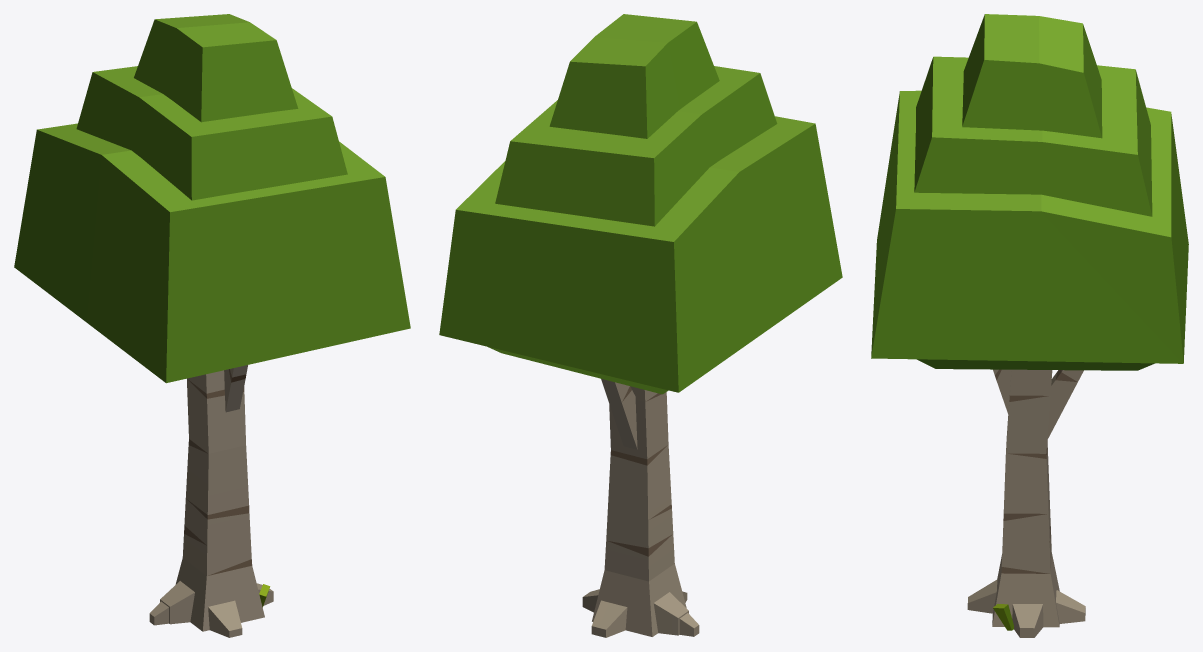
File: SF_Env_Tree_04.fbx
The picture shows the model from 3 angles, left to right: view 1: azimuth 30°, elevation 25°; view 2: azimuth 150°, elevation 25°; view 3: azimuth 270°, elevation 25°; orthographic projection.
Visible parts, largest first — view 1: SF_Prop_Tree_04; view 2: SF_Prop_Tree_04; view 3: SF_Prop_Tree_04.
Part boxes in pixels (x1,y1,x2,y2): SF_Prop_Tree_04: (14,14,410,637); SF_Prop_Tree_04: (439,14,842,637); SF_Prop_Tree_04: (871,14,1188,637).
Size of the model in its own units: 3.19 by 7.26 by 3.59.
